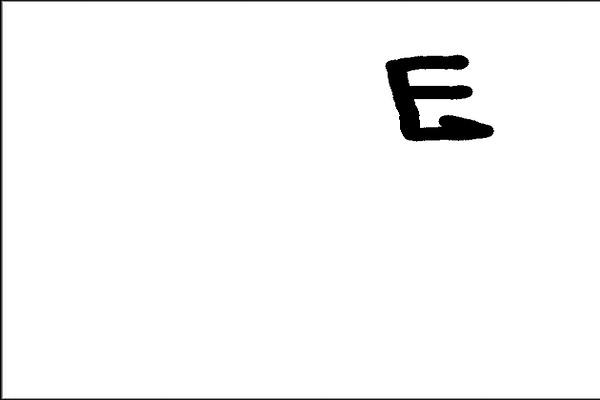E: (381, 52, 497, 147)
